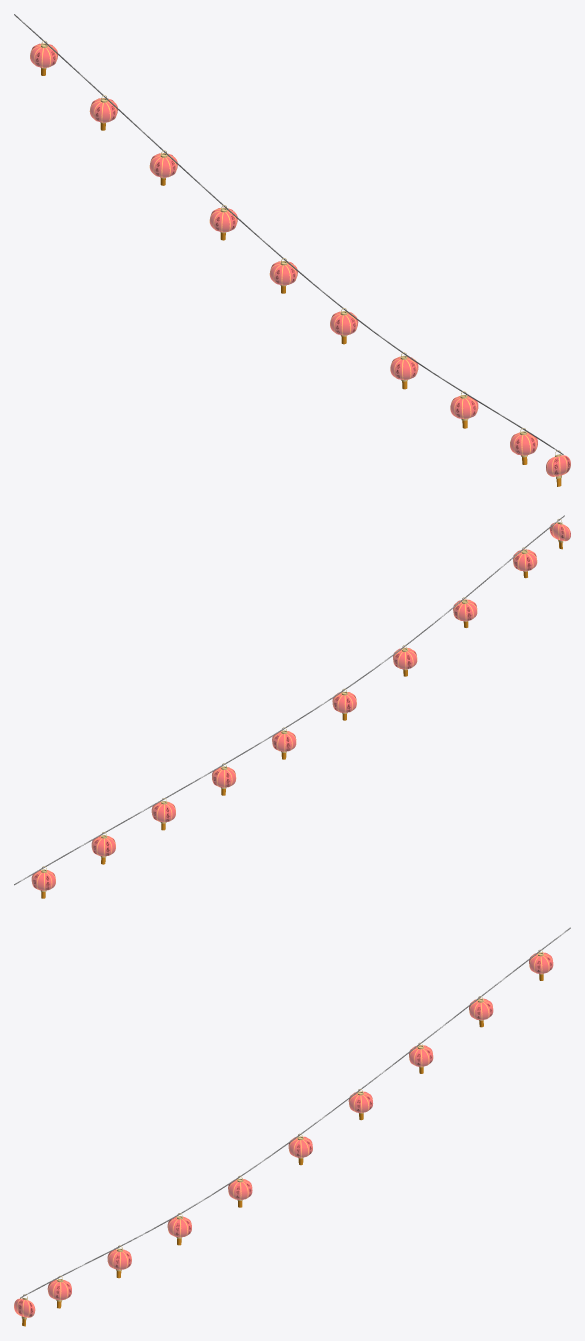
Rendered from SM_lamp_spline_Splines_16.fbx.
3 renders of one model, top to bottom at view 1: azimuth 30°, elevation 25°; view 2: azimuth 150°, elevation 25°; view 3: azimuth 330°, elevation 25°, orthographic. The views are drawn at different scales.
Visible parts, largest first — view 1: SM_lamp_spline_Splines_16; view 2: SM_lamp_spline_Splines_16; view 3: SM_lamp_spline_Splines_16.
Boxes of the visible parts, x1,y1,x2,y2 form: SM_lamp_spline_Splines_16: [14, 14, 570, 486]; SM_lamp_spline_Splines_16: [14, 515, 570, 898]; SM_lamp_spline_Splines_16: [14, 927, 570, 1326].
Size of the model in its own units: 136 by 2286 by 140.
